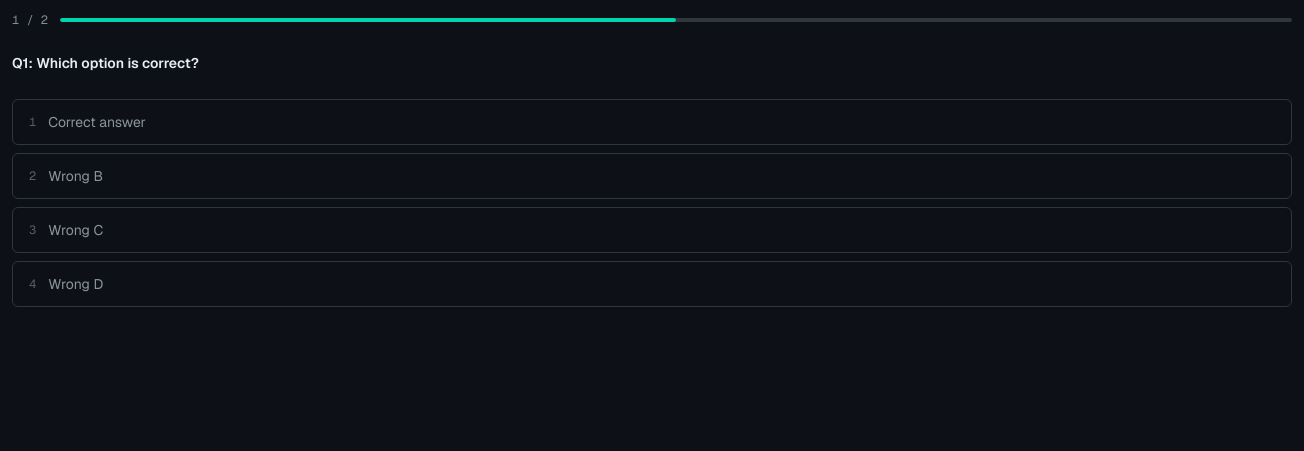
it: Quiz › shows explanation and marks correct option green on correct answer
Click the radio button labelled "1 Correct answer" at (97, 122), box top-left (12, 99), bottom-right (1292, 145)
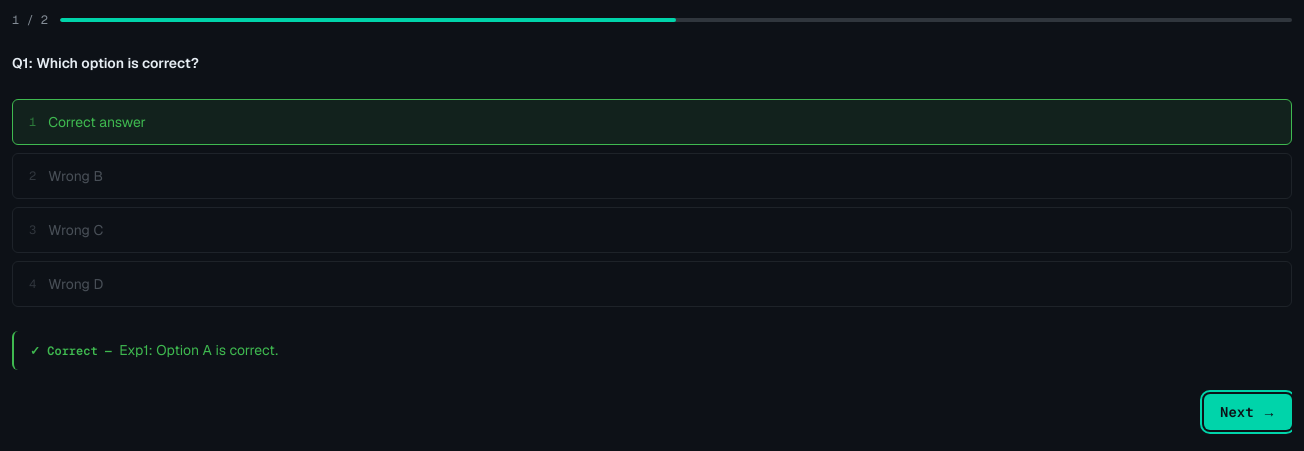
Check: the text "✓ Correct — Exp1: Option A is correct." is shown, box top-left (12, 331), bottom-right (1292, 370)
Check: the text "✓ Correct —" is shown, box top-left (30, 343), bottom-right (119, 359)
